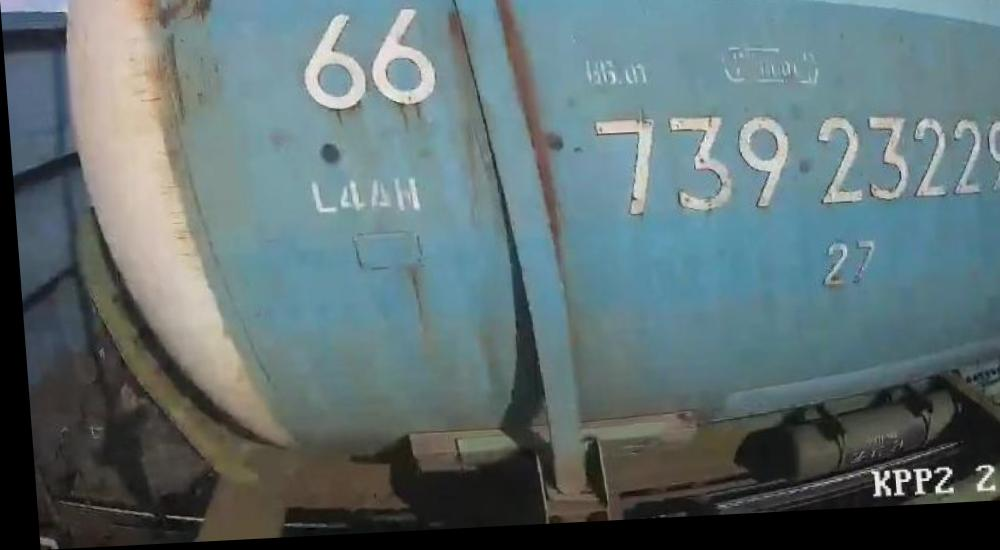Wagon-number: (586, 102, 1000, 233)
